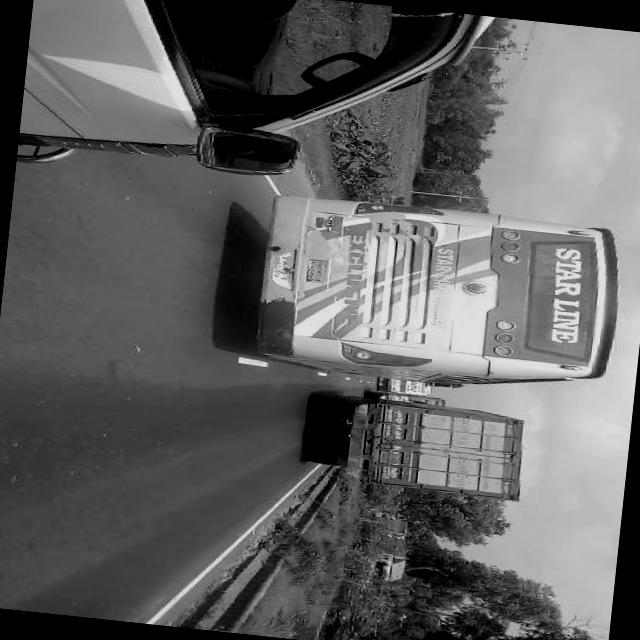bus: (254, 188, 626, 400)
truck: (17, 0, 486, 205), (309, 392, 525, 496), (370, 535, 406, 582), (367, 388, 446, 407), (378, 378, 432, 395)
